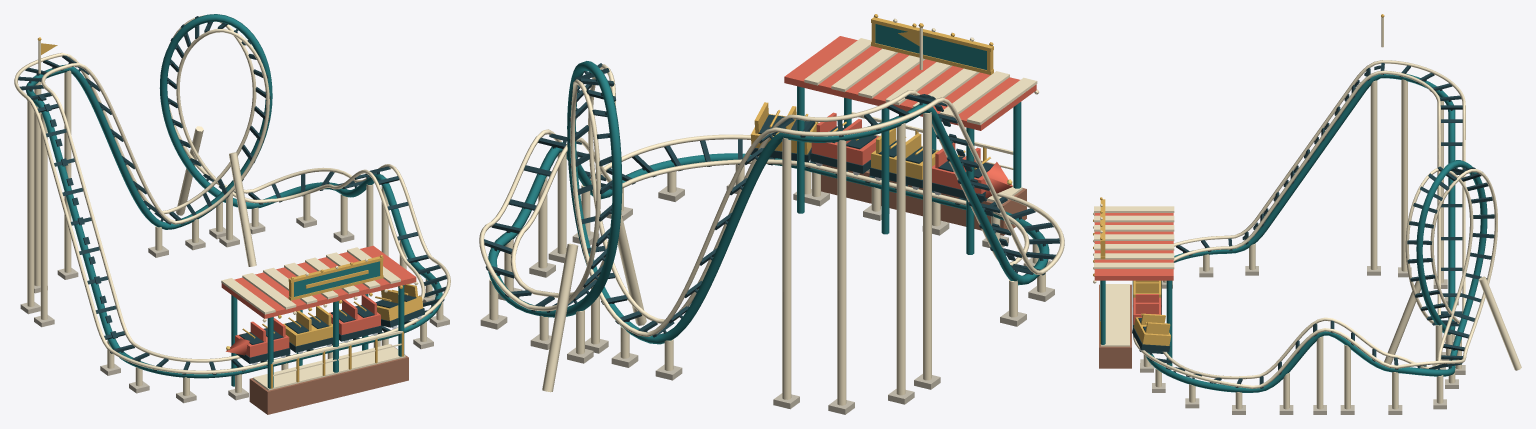
Rendered from ride_looping.glb.
3 renders of one model, left to right at view 1: azimuth 30°, elevation 25°; view 2: azimuth 150°, elevation 25°; view 3: azimuth 270°, elevation 25°, orthographic. The views are drawn at different scales.
Parts seen in each view (by area): view 1: ride_looping; view 2: ride_looping; view 3: ride_looping.
Part boxes in pixels (x1,y1,x2,y2): ride_looping: (14,14,450,414); ride_looping: (479,14,1064,414); ride_looping: (1093,14,1521,414).
Size of the model in its own units: 12.93 by 10.35 by 15.49.
